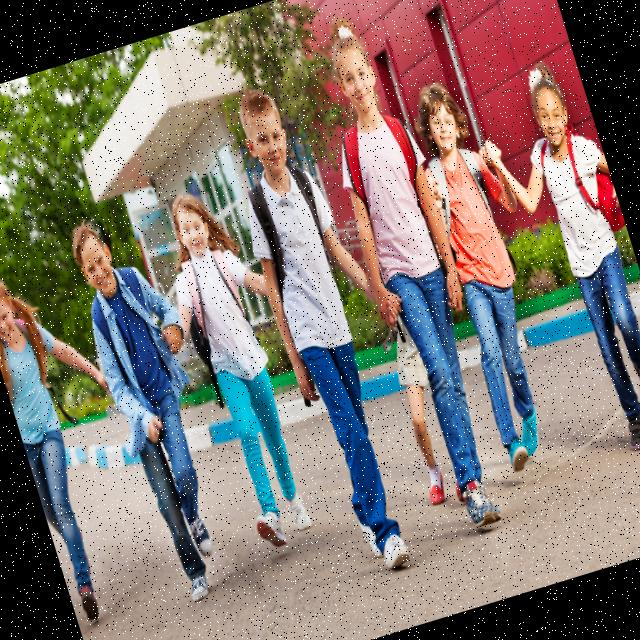Person: (208, 64, 473, 582), (292, 7, 528, 537), (60, 207, 258, 608), (397, 70, 590, 472), (465, 54, 640, 468), (148, 180, 336, 553), (0, 252, 172, 627)
